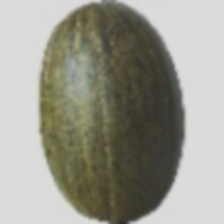honeydew: (0, 10, 199, 194)
